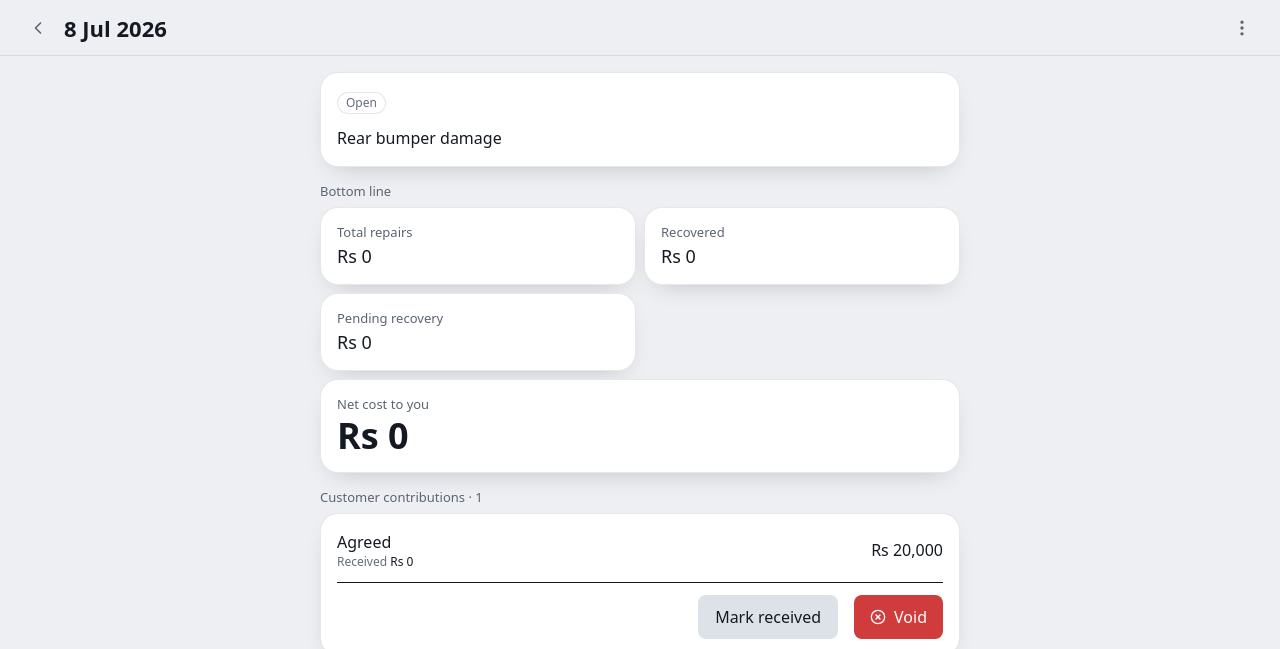
Scenario: a customer recovery not yet fully received is tappable, opening Mark received
The width and height of the screenshot is (1280, 649).
Expected: the heading "Customer contributions · 1" is shown, x1=320 y1=489 x2=483 y2=505
Click the button "Mark received" at (768,617), box x1=698 y1=595 x2=838 y2=639
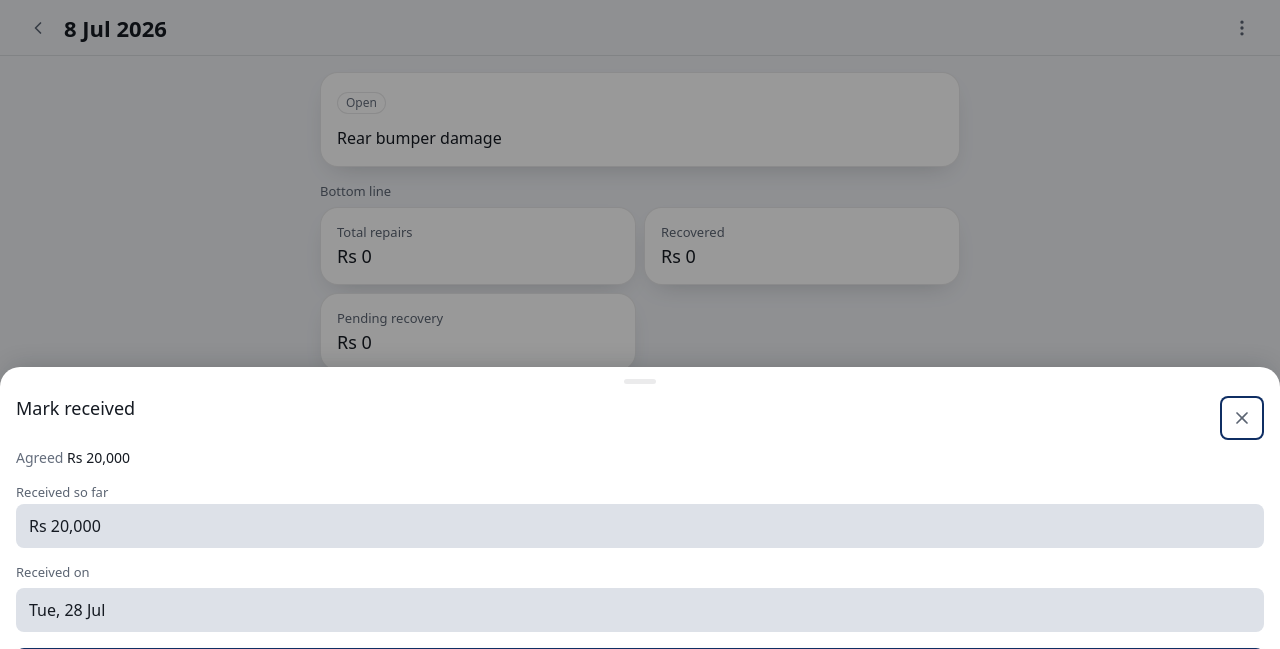
Result: the heading "Mark received" is shown at x1=16 y1=396 x2=135 y2=420
